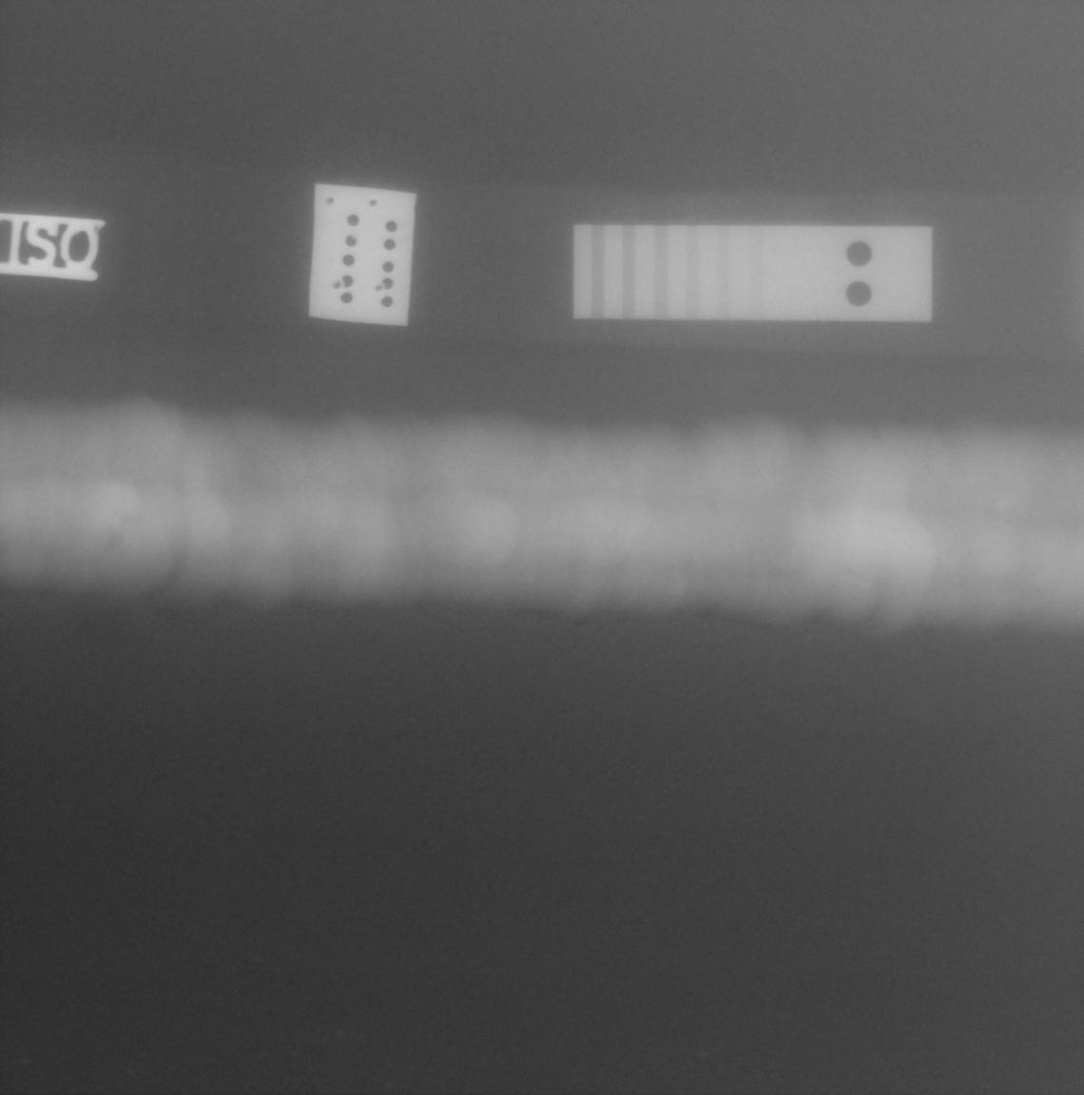Inclusion: (107, 531, 121, 549)
Reference Standard 2: (572, 225, 932, 322)
